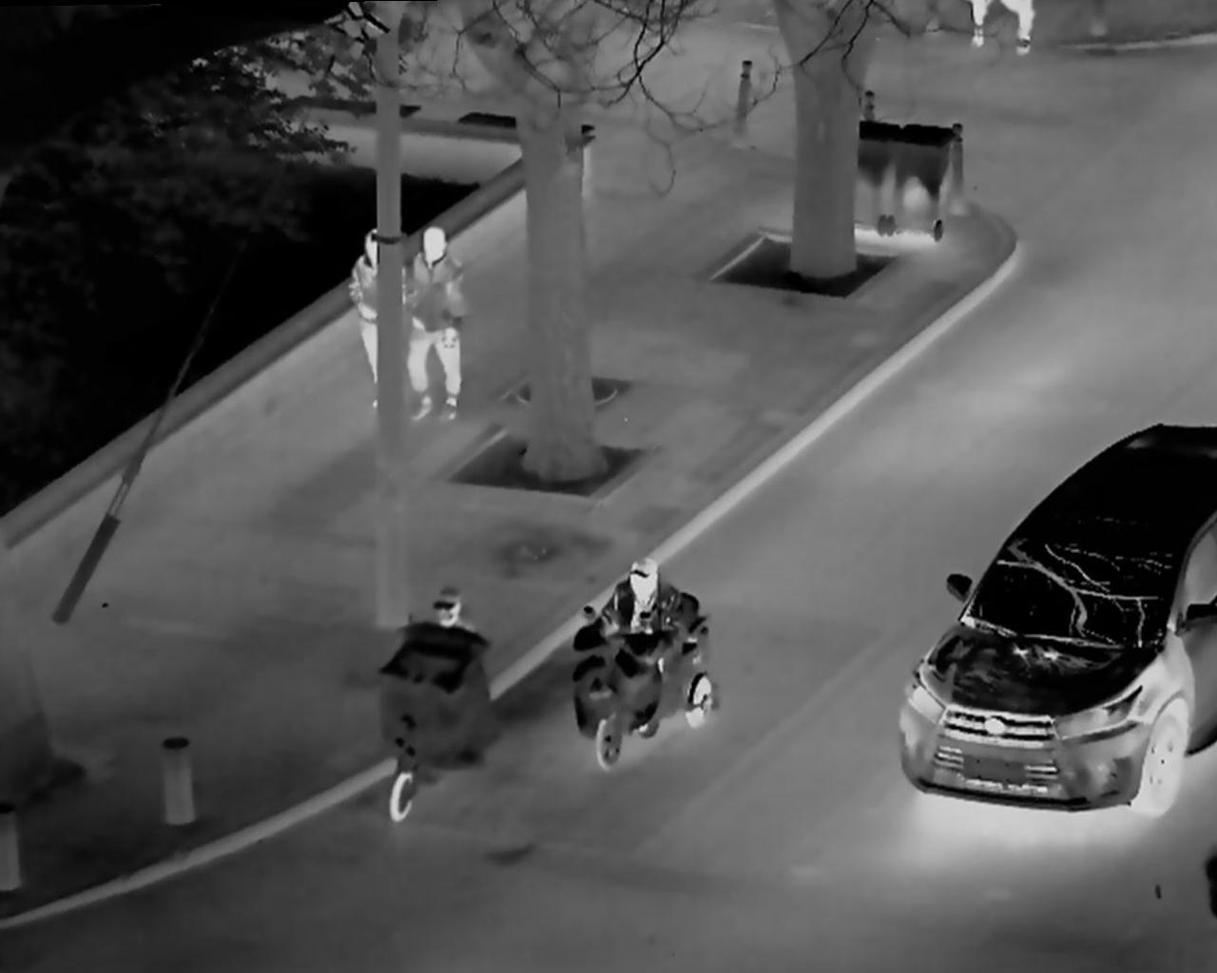person: (587, 545, 700, 731), (391, 572, 482, 753), (411, 209, 472, 425), (341, 213, 395, 416), (965, 3, 1040, 58)
